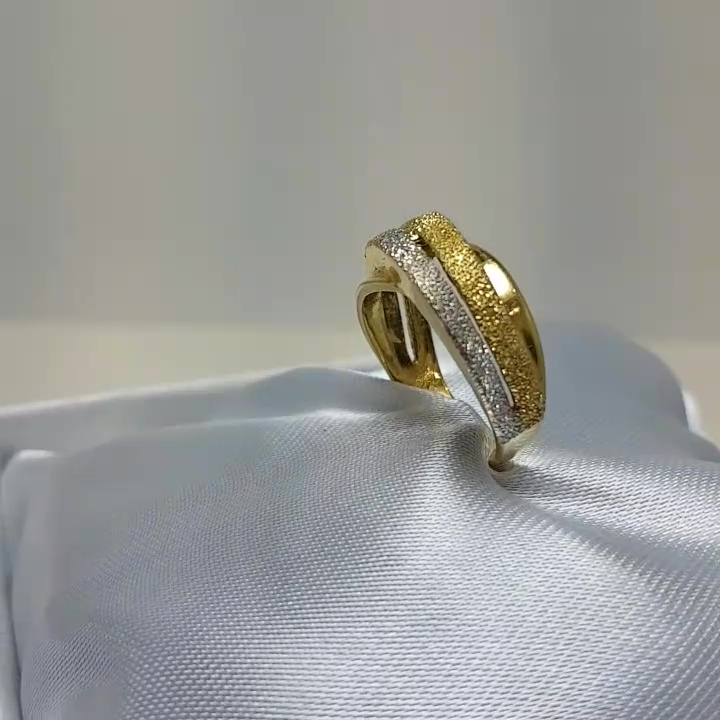Ring 5: (314, 210, 561, 473)
